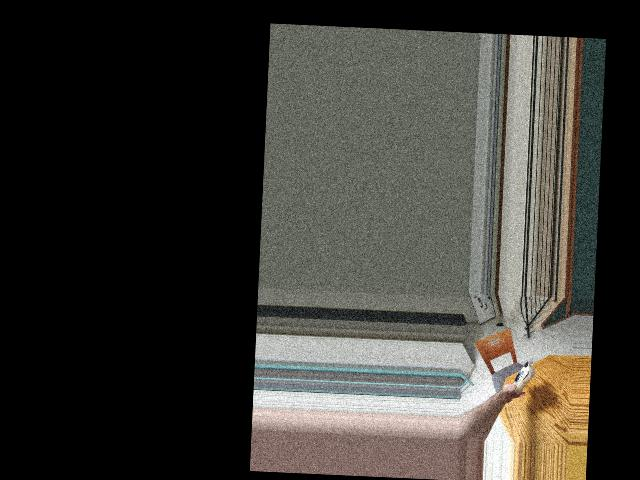cheese: (510, 360, 536, 395)
